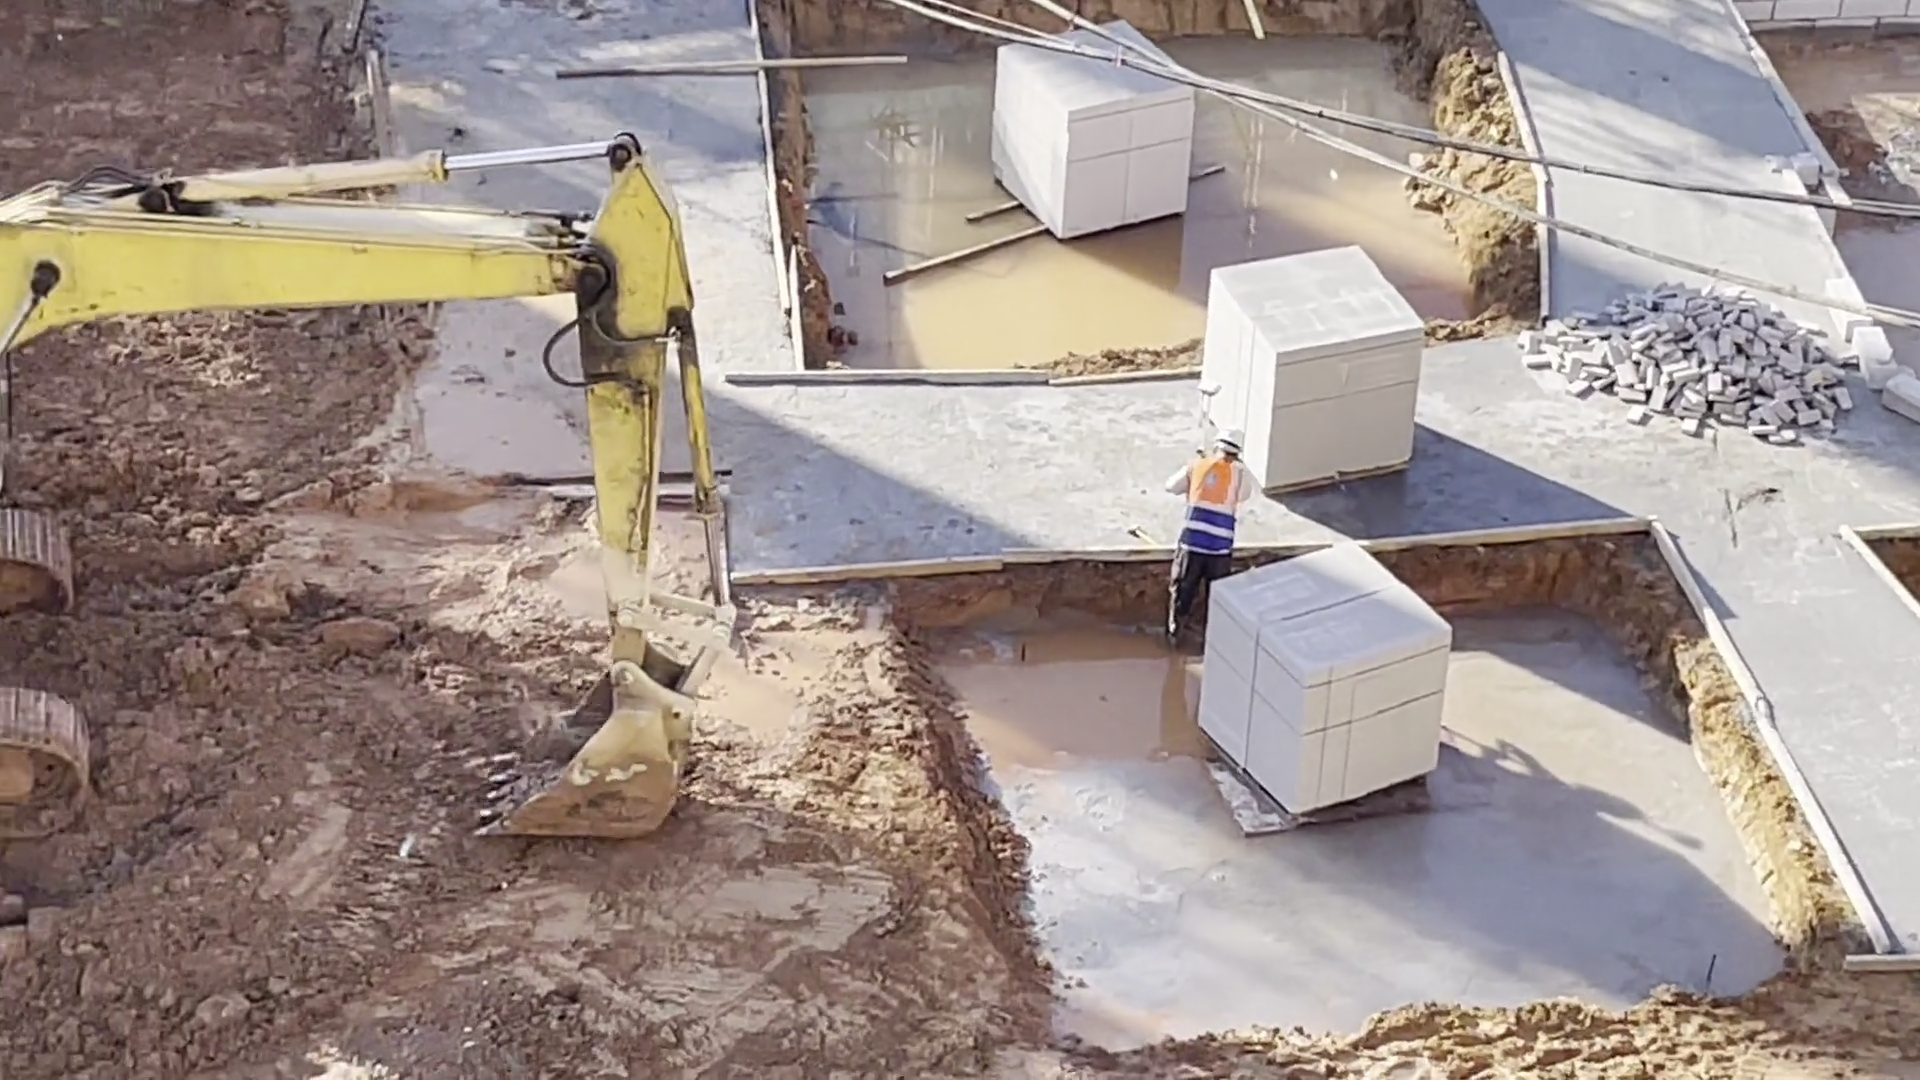brick: (1190, 543, 1455, 818), (1194, 243, 1427, 488), (979, 14, 1206, 247)
helmet: (1211, 425, 1244, 459)
person: (1157, 425, 1248, 637)
vest: (1177, 454, 1238, 563)
